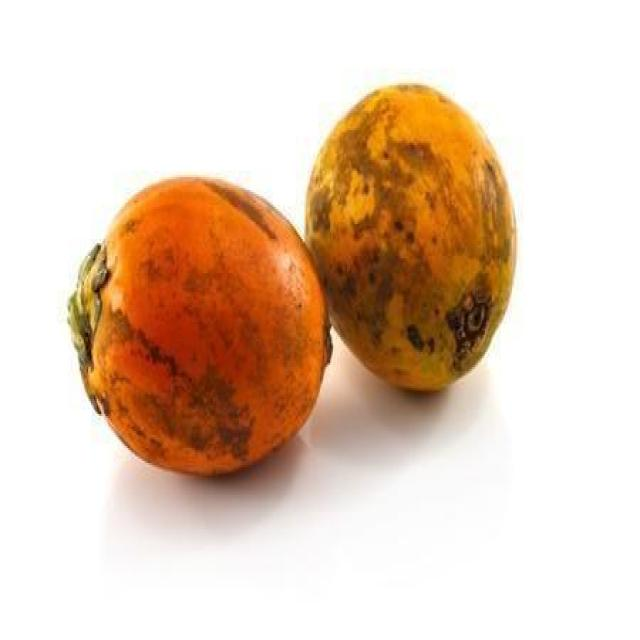good: (67, 177, 331, 480), (303, 85, 518, 395)
